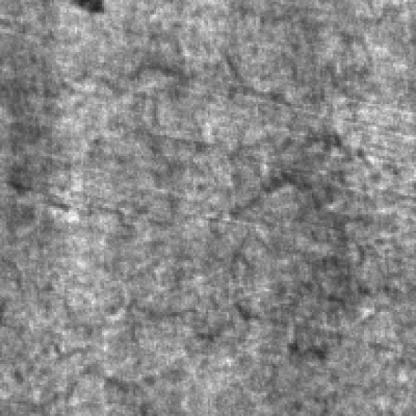crazing: (229, 125, 393, 364)
